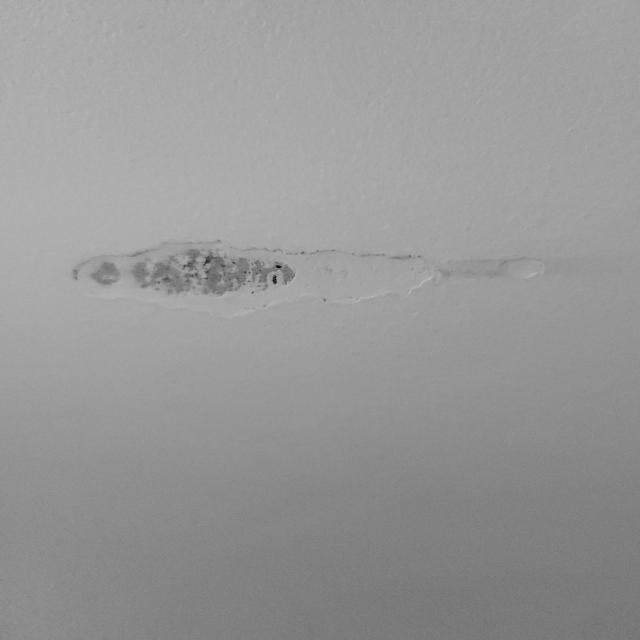rough and patchy surface: (41, 208, 601, 368)
